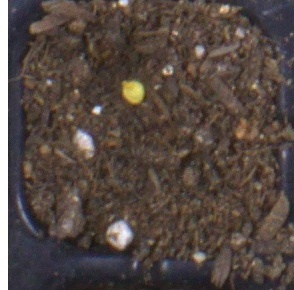chilli seed: (120, 78, 145, 105)
